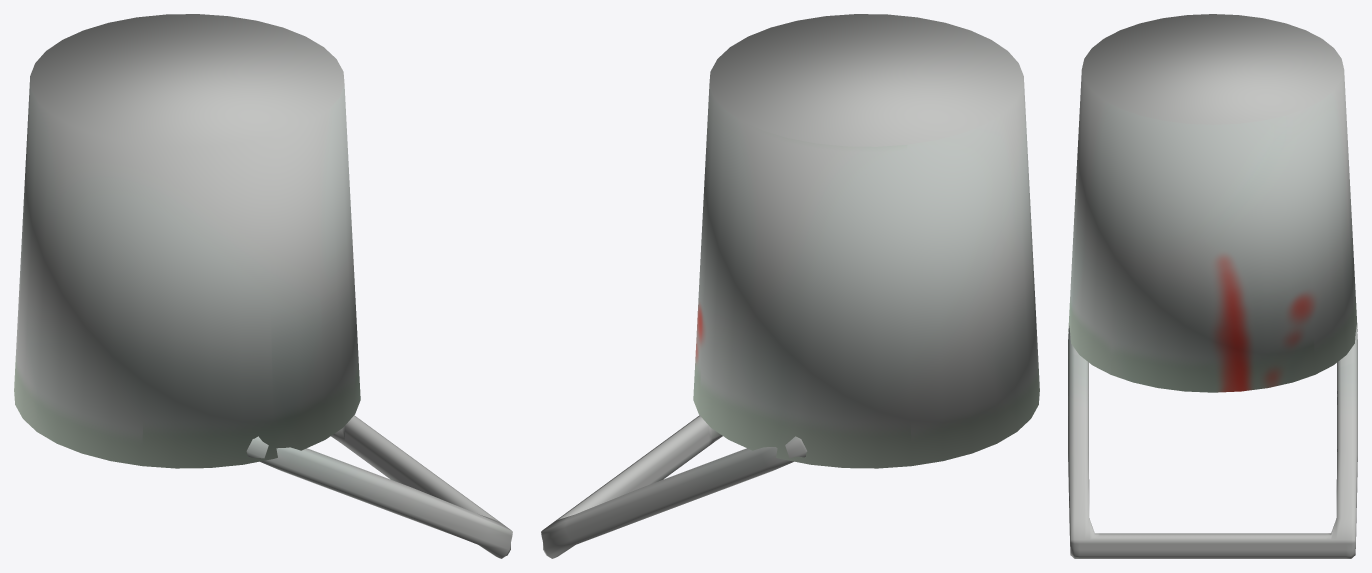
File: Bucket.fbx
3 views of the same model, side by side, from view 1: azimuth 30°, elevation 25°; view 2: azimuth 150°, elevation 25°; view 3: azimuth 270°, elevation 25° (orthographic). The views are drawn at different scales.
Parts seen in each view (by area): view 1: Cylinder; view 2: Cylinder; view 3: Cylinder.
Part boxes in pixels (x1,y1,x2,y2): Cylinder: [14, 14, 512, 558]; Cylinder: [541, 14, 1039, 558]; Cylinder: [1068, 14, 1357, 558].
Size of the model in its own units: 260 by 301 by 200.
1 material, 1 textured.
